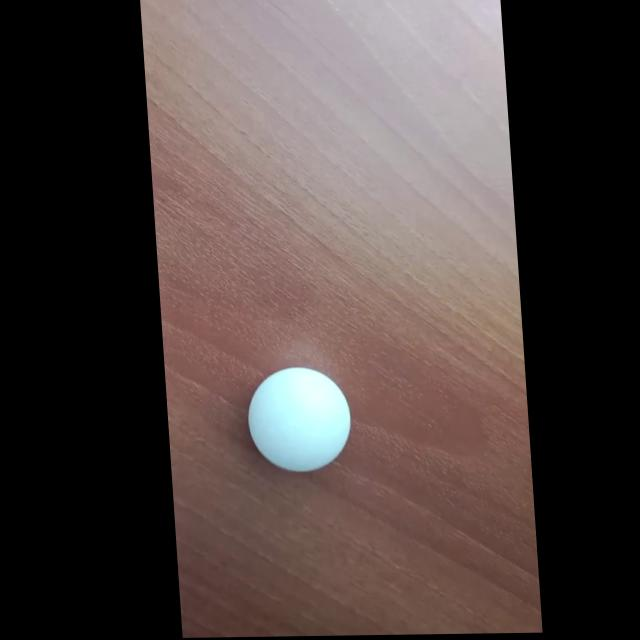white ball: (244, 365, 355, 473)
